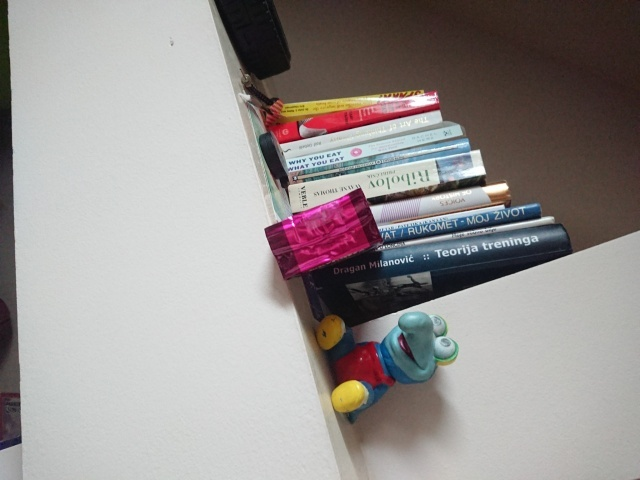Barcaffe Classic Original 225g: (262, 185, 387, 284)
